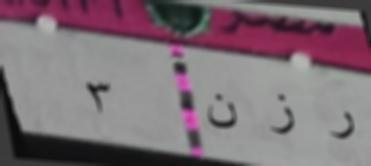3: (85, 81, 117, 118)
noon: (203, 92, 240, 132)
raa: (326, 106, 359, 142)
zay: (269, 93, 298, 139)
